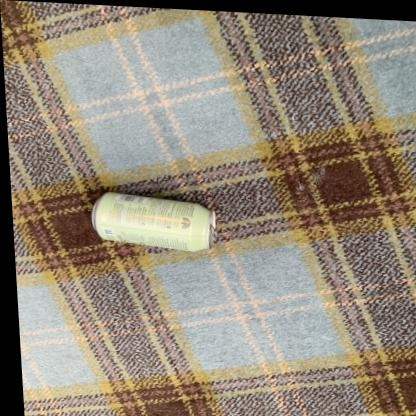trash: (92, 192, 215, 250)
